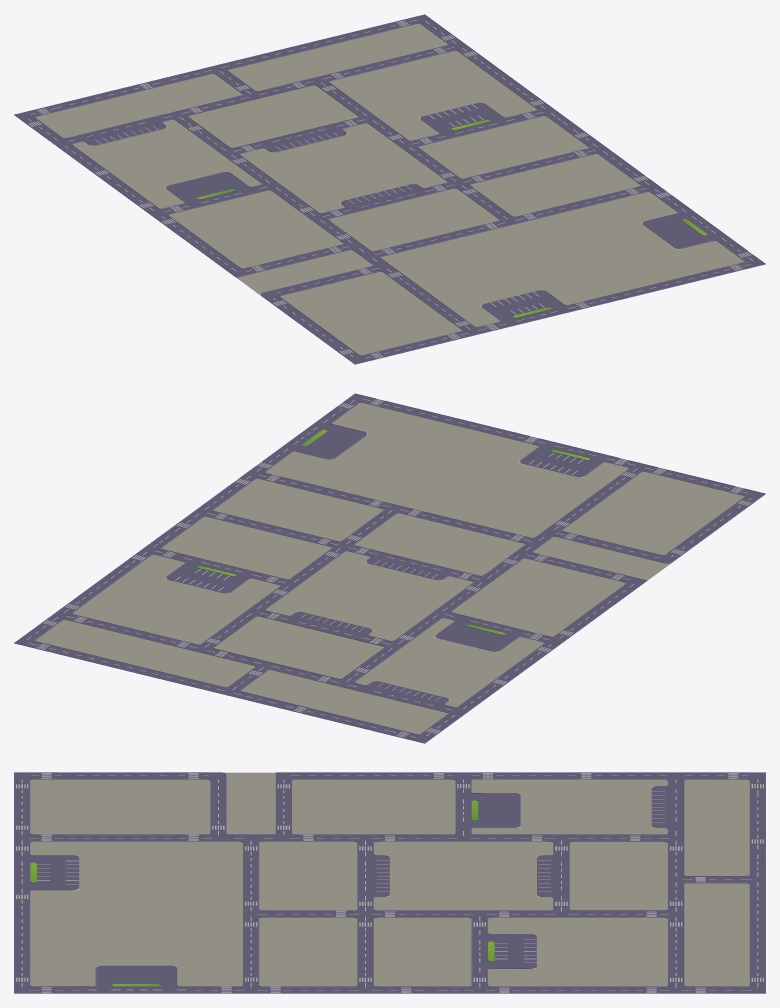
File: Mini_Roads.fbx
3 renders of one model, top to bottom at view 1: azimuth 30°, elevation 25°; view 2: azimuth 150°, elevation 25°; view 3: azimuth 270°, elevation 25°, orthographic. The views are drawn at different scales.
Visible parts, largest first — view 1: Mini_Roads; view 2: Mini_Roads; view 3: Mini_Roads.
Boxes of the visible parts, left/top/right/bottom form: Mini_Roads: left=14, top=14, right=765, bottom=364; Mini_Roads: left=14, top=393, right=765, bottom=743; Mini_Roads: left=14, top=772, right=765, bottom=993.
Bounding box in the file's own units: 16004 × 17.5 × 23000.
